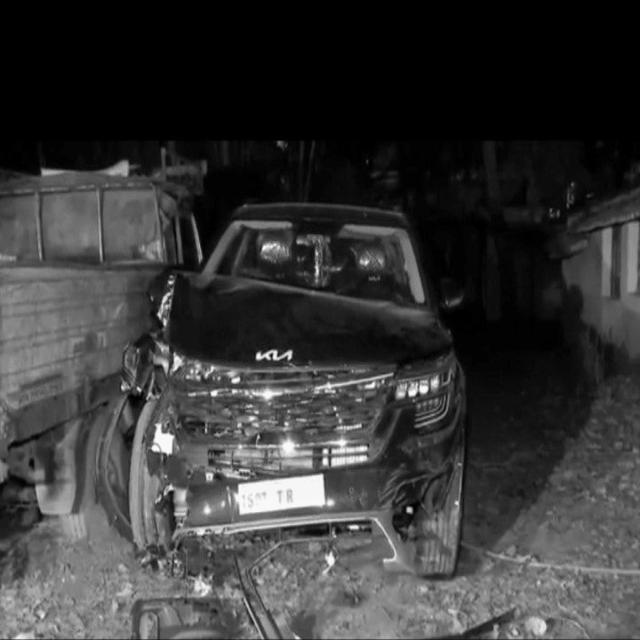crush: (127, 273, 447, 564)
